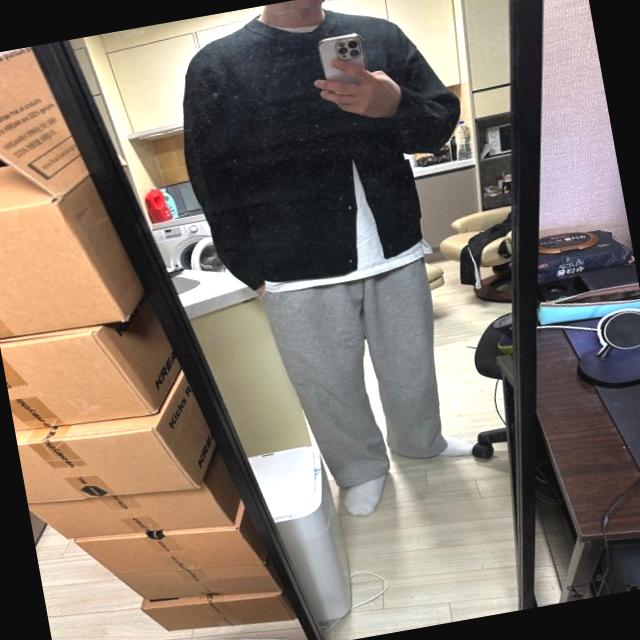cardigan: (162, 0, 487, 300)
trainingpants: (266, 252, 462, 492)
